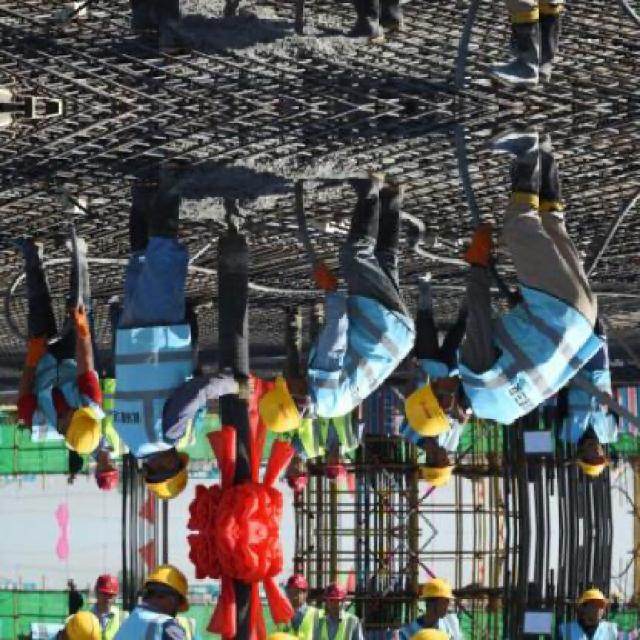con casco: (408, 370, 507, 441), (141, 443, 220, 520), (262, 357, 334, 437), (56, 399, 124, 470), (394, 432, 470, 494)
